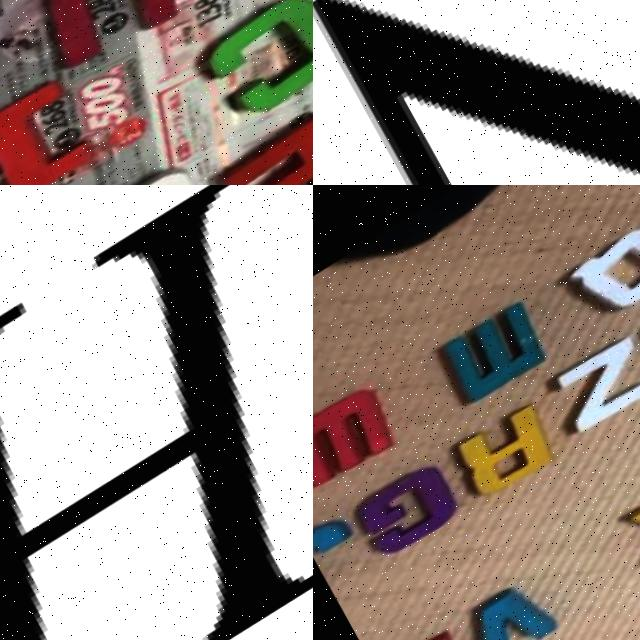C: (189, 0, 313, 140)
E: (213, 113, 313, 185)
G: (350, 453, 468, 566)
H: (0, 185, 313, 640)
I: (0, 71, 99, 185)
J: (313, 511, 366, 593)
M: (434, 300, 556, 418)
N: (313, 0, 640, 185)
Q: (567, 215, 640, 335), (62, 147, 215, 185)
R: (447, 407, 555, 511)
U: (19, 0, 187, 88)
V: (450, 576, 558, 640)
W: (313, 377, 404, 496)
X: (618, 480, 640, 582)
Z: (547, 337, 640, 444)
